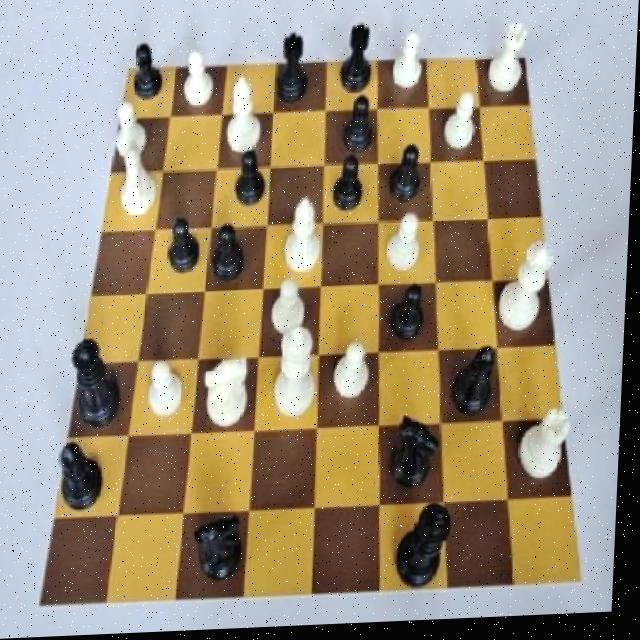bishop: (57, 432, 114, 527), (450, 342, 507, 430)
black-bishop: (392, 497, 464, 607)
black-king: (380, 408, 453, 502), (190, 501, 254, 596)
black-knight: (325, 150, 376, 225), (388, 278, 437, 354), (208, 216, 255, 295), (383, 140, 430, 213), (129, 29, 168, 109), (231, 145, 275, 215), (337, 94, 384, 159), (163, 208, 204, 279)
black-pawn: (72, 325, 133, 438)
black-queen: (268, 24, 316, 117), (334, 19, 382, 101)
black-rook: (278, 186, 332, 281), (222, 68, 268, 160)
white-bishop: (264, 319, 324, 435)
white-king: (201, 345, 257, 450), (111, 128, 164, 220)
white-knight: (329, 337, 380, 411), (174, 44, 223, 120), (142, 356, 192, 429), (108, 91, 155, 167), (383, 211, 432, 283), (387, 29, 435, 100), (270, 280, 315, 344), (441, 94, 484, 158)
white-pawn: (492, 234, 568, 349)
white-queen: (511, 404, 587, 502), (482, 17, 536, 110)
